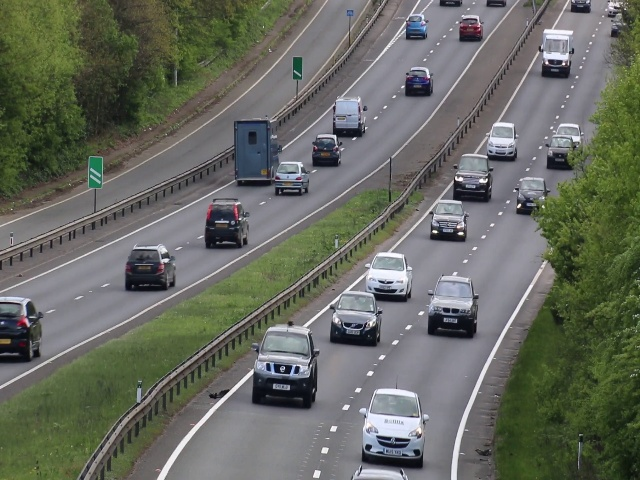car: (355, 385, 429, 466), (248, 324, 321, 405), (426, 273, 478, 337), (235, 117, 284, 182), (329, 290, 382, 347), (1, 295, 44, 357), (123, 242, 179, 288), (204, 196, 250, 247), (366, 254, 411, 298), (454, 150, 492, 201), (432, 196, 466, 244), (330, 96, 368, 136), (542, 28, 573, 76), (486, 119, 521, 160), (273, 160, 310, 196), (516, 177, 549, 213), (311, 131, 342, 167), (404, 63, 433, 100), (545, 134, 574, 167), (404, 12, 429, 39), (457, 15, 483, 40)
